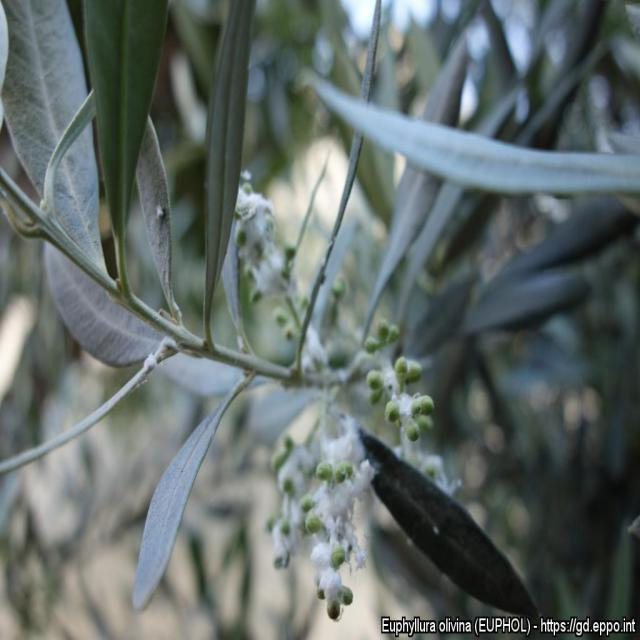Psyllid: (266, 409, 374, 621), (233, 182, 303, 342), (366, 355, 433, 454)
